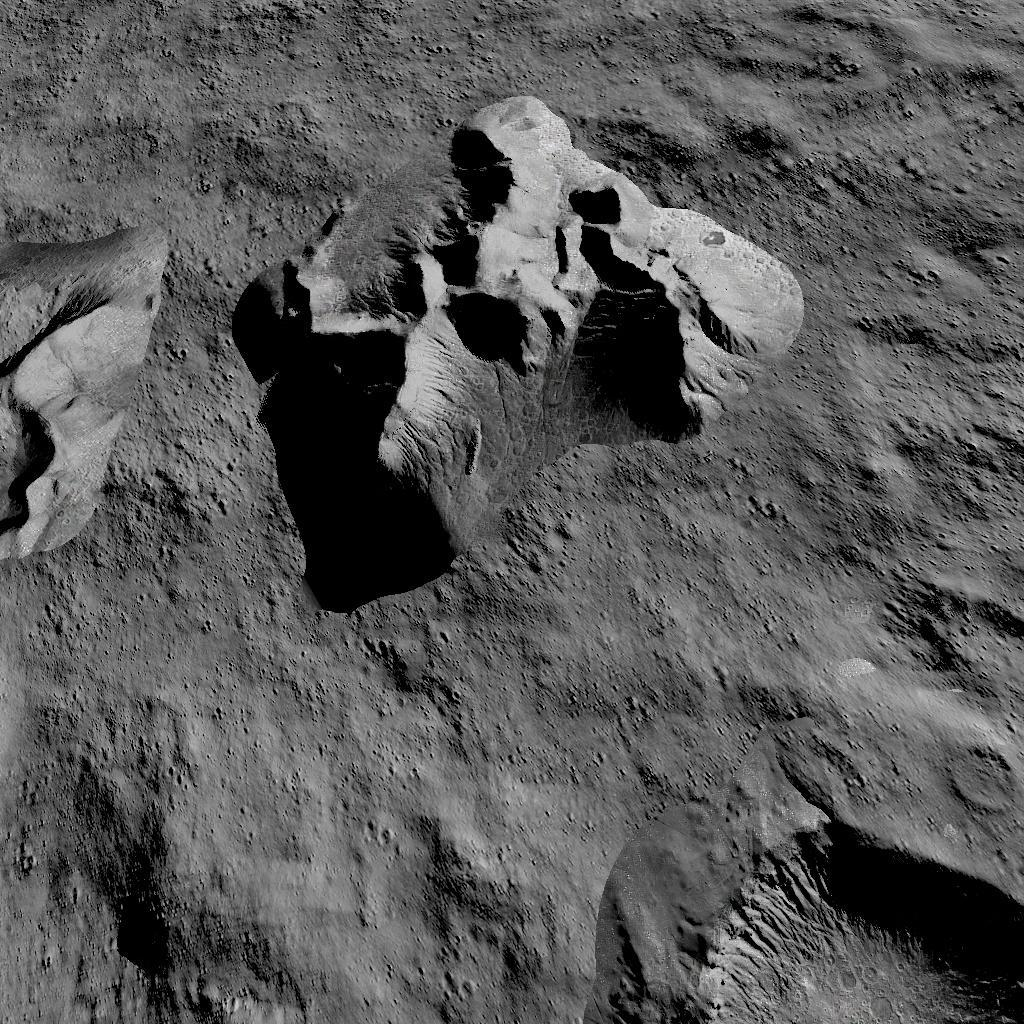Boulders: (212, 80, 801, 608), (4, 198, 168, 572)
Crater: (587, 774, 1024, 1024), (886, 553, 1022, 722), (102, 880, 188, 982)
Plan surface: (218, 628, 568, 1024), (829, 6, 1024, 526), (2, 592, 202, 840), (581, 624, 870, 753), (5, 0, 198, 179)
